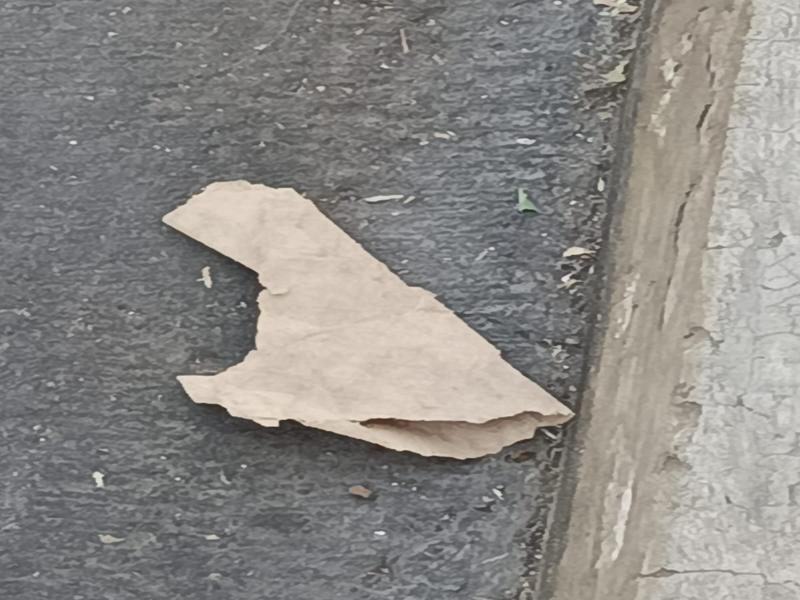papel: (159, 180, 575, 461)
